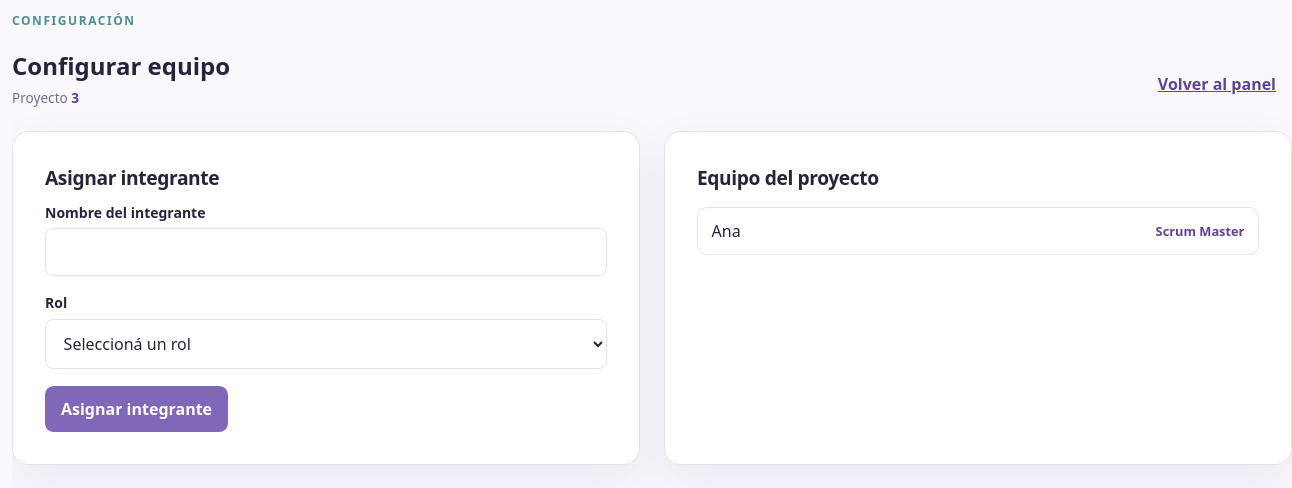
Test: pantalla de configuración del equipo › asigna un integrante con rol y lo muestra en el equipo
Expected: the text "Ana" is shown, [712,220,741,242]
Type "Jimena" into the field labelled "Nombre del integrante".
click(326, 252); type("Jimena")  # box [45,228,607,276]
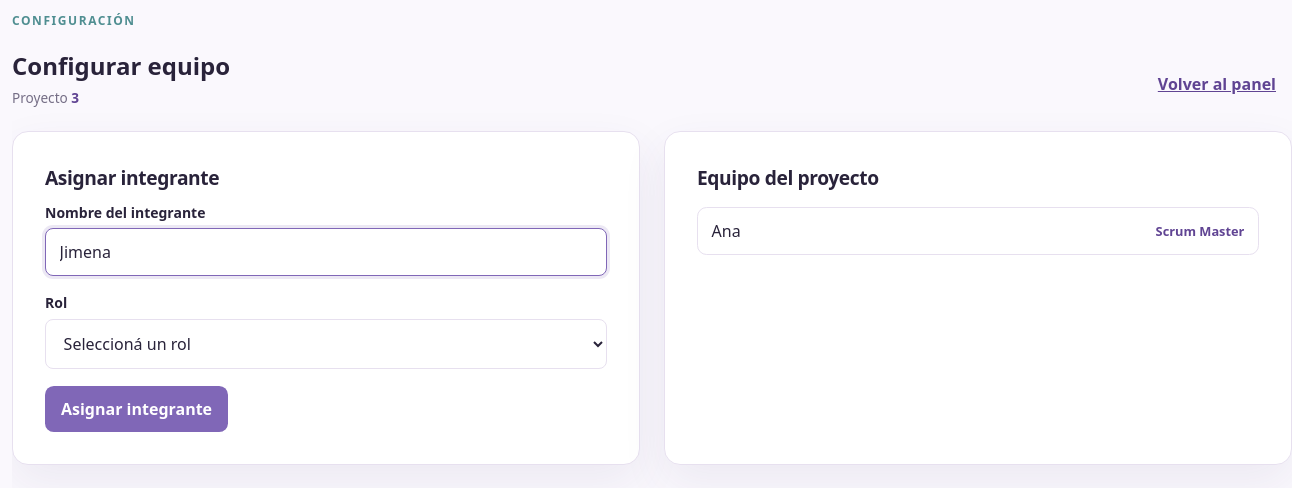
Select "Product Builder" in the dropdown labelled "Rol" at (326, 344), box [45,319,607,369]
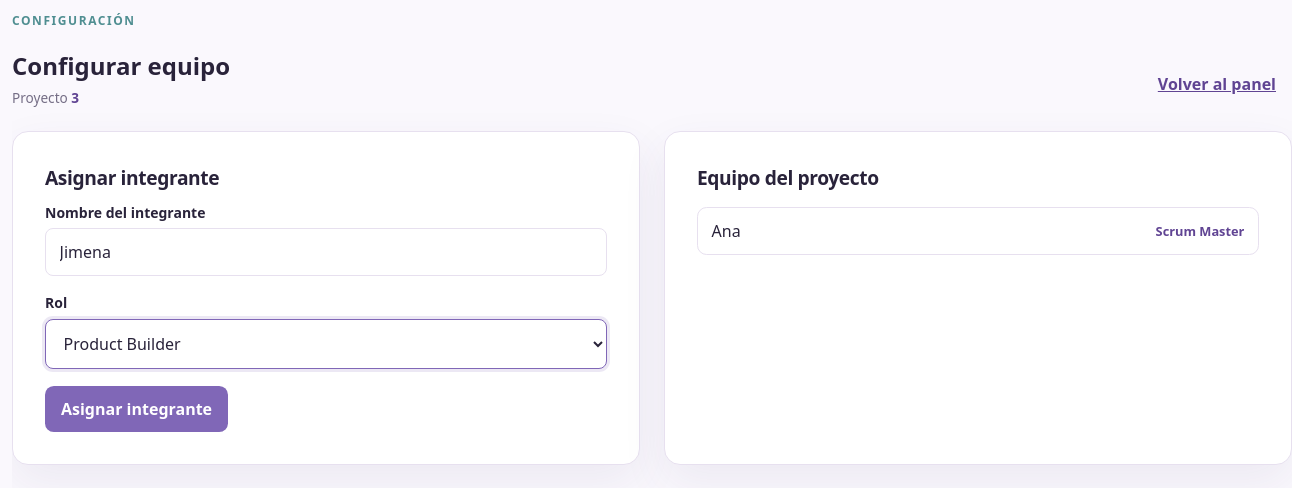
Click the button "Asignar integrante".
click(136, 410)  # box [45,386,228,432]
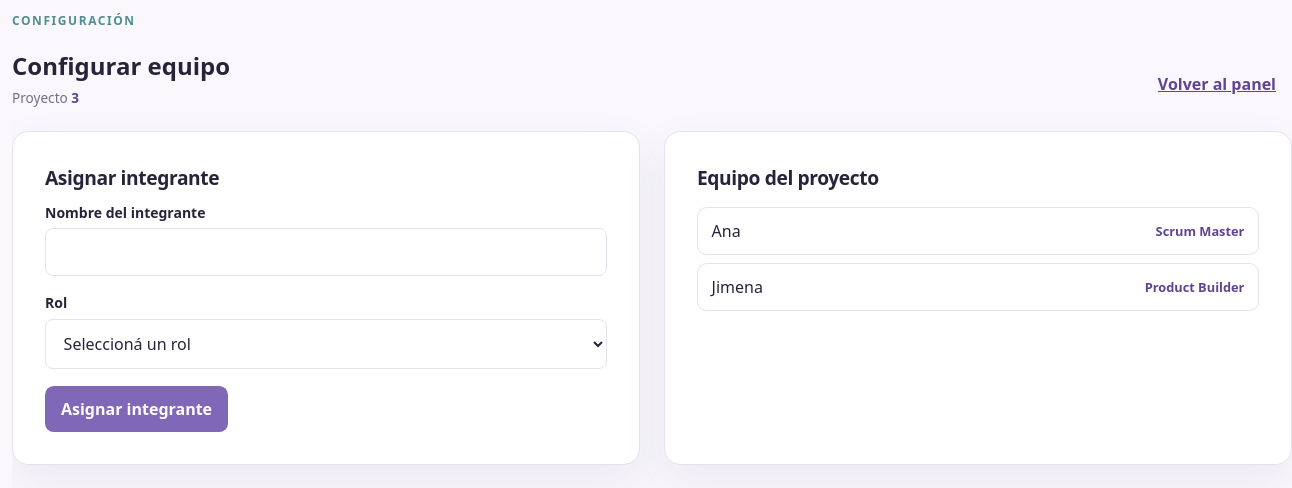
Expected: the text "Jimena" is shown, [712,276,763,298]
